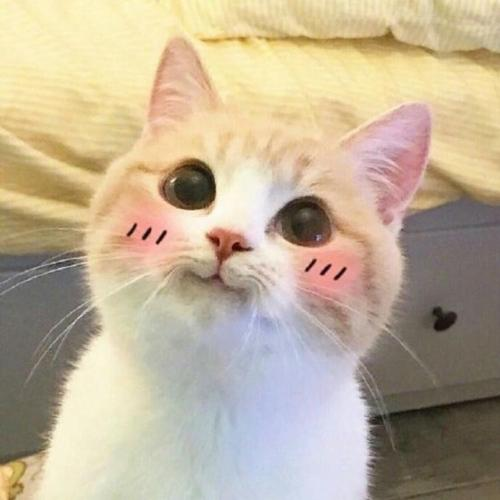cat: (90, 23, 432, 401)
